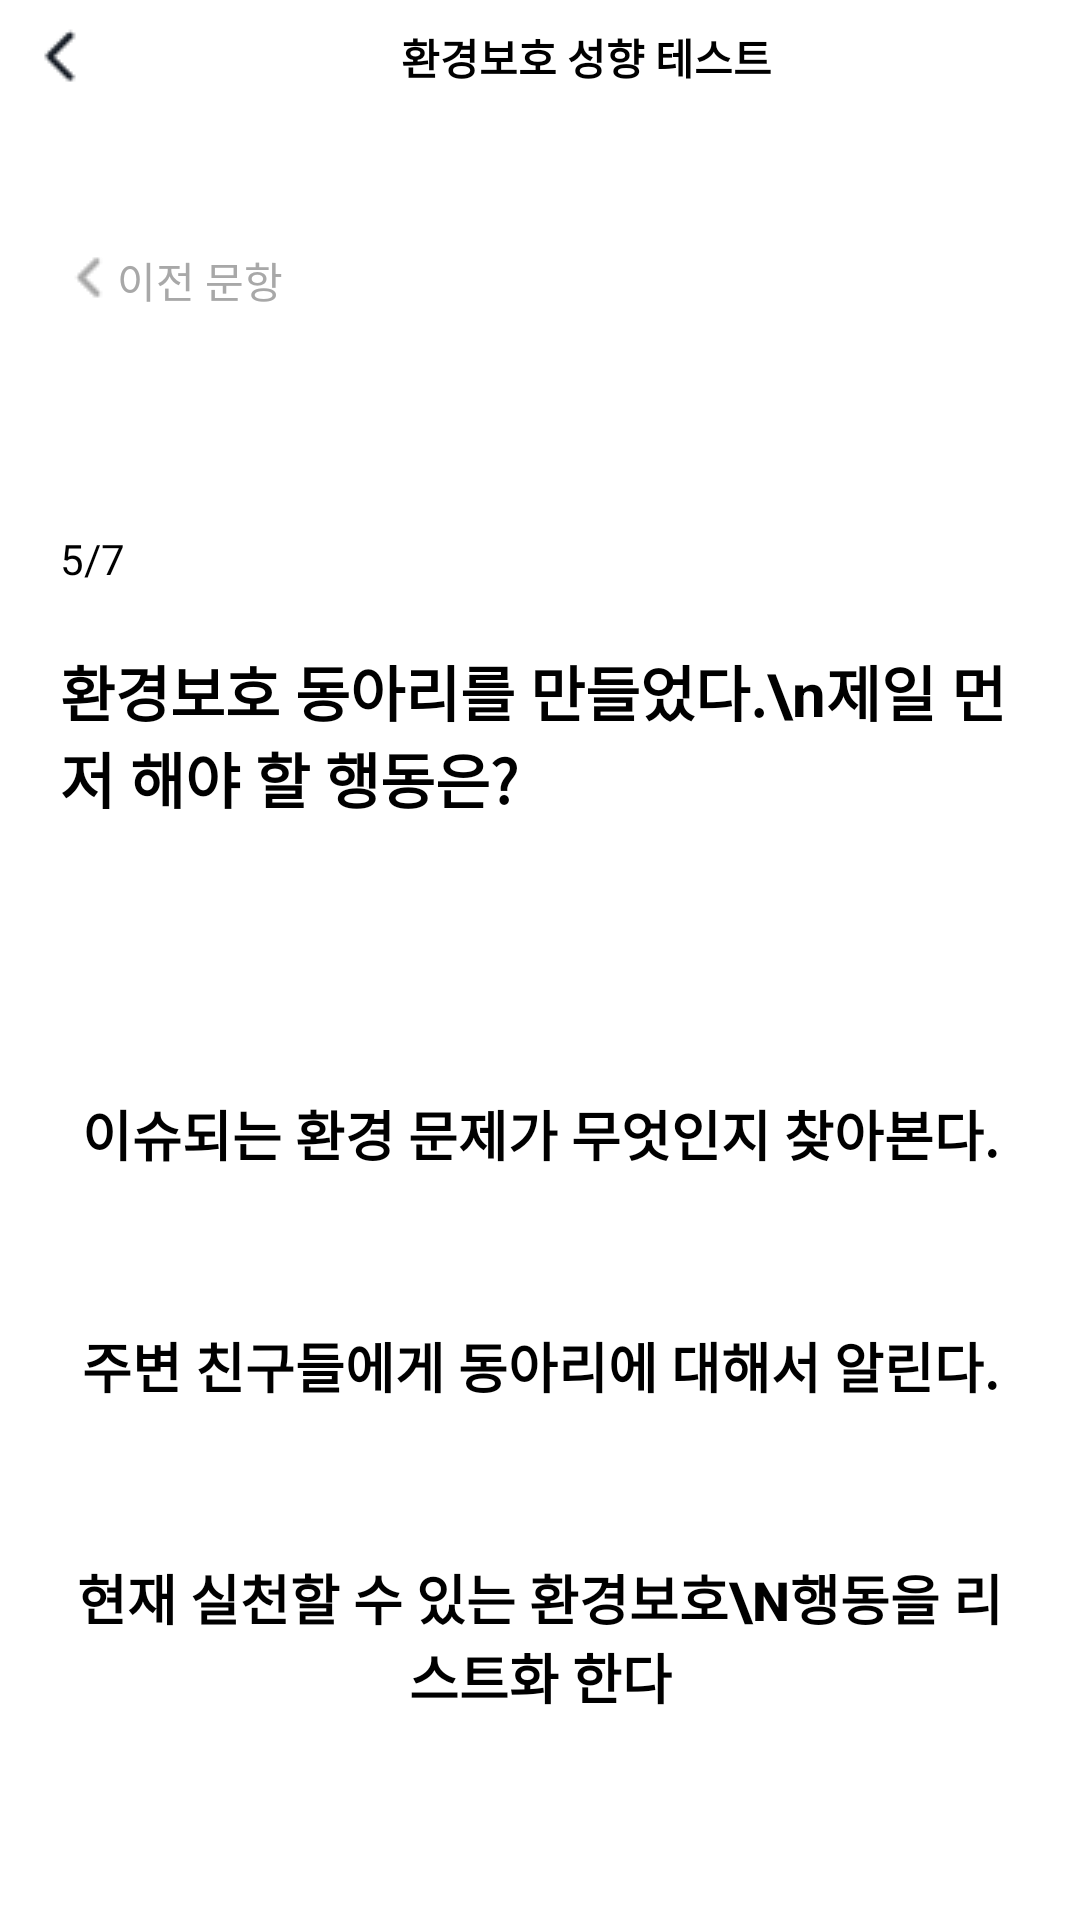

Where to tap for icons on this 1080w x 1920h app screen, as (x=x, y=y):
backicon: (x=60, y=56)
greybackicon: (x=88, y=277)
